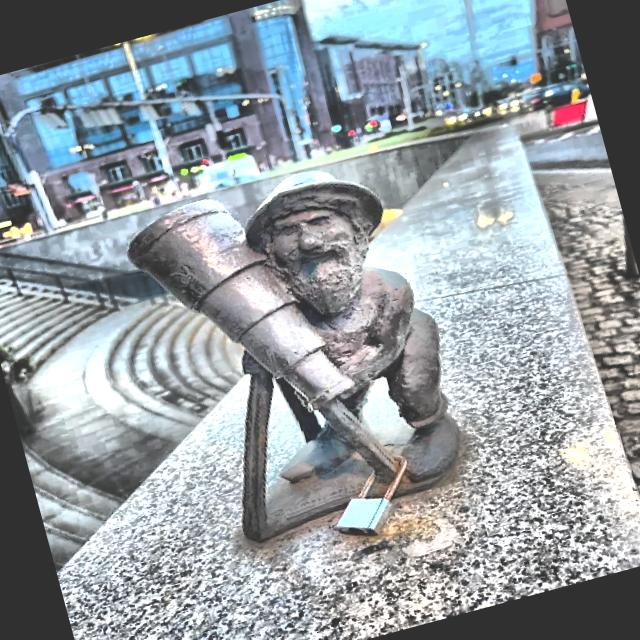Lunetyk: (126, 170, 461, 545)
